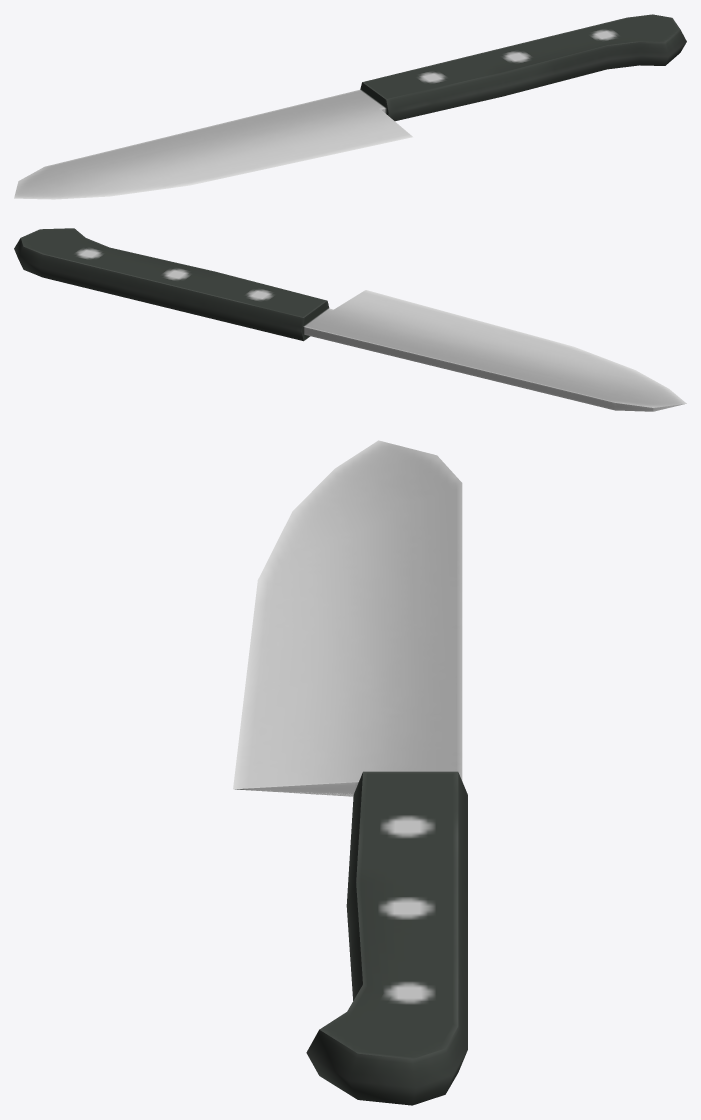
File: KR_Kitchen_knife_01_01.fbx
The picture shows the model from 3 angles, top to bottom: view 1: azimuth 30°, elevation 25°; view 2: azimuth 150°, elevation 25°; view 3: azimuth 270°, elevation 25°; orthographic projection. The views are drawn at different scales.
Parts seen in each view (by area): view 1: kr_kitchen_knife_01_01; view 2: kr_kitchen_knife_01_01; view 3: kr_kitchen_knife_01_01.
Boxes of the visible parts, x1,y1,x2,y2 form: kr_kitchen_knife_01_01: [14, 14, 686, 199]; kr_kitchen_knife_01_01: [14, 228, 686, 411]; kr_kitchen_knife_01_01: [233, 440, 467, 1105].
Size of the model in its own units: 30 by 1 by 4.6.
